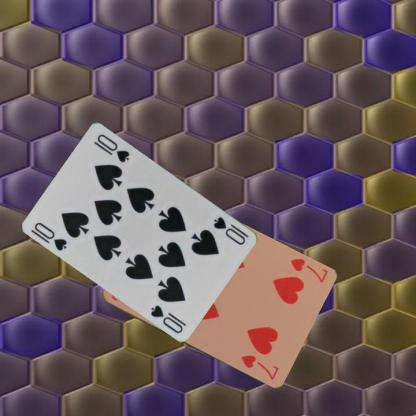10s: (211, 213, 250, 247), (32, 219, 69, 252)
7h: (287, 256, 329, 284)
